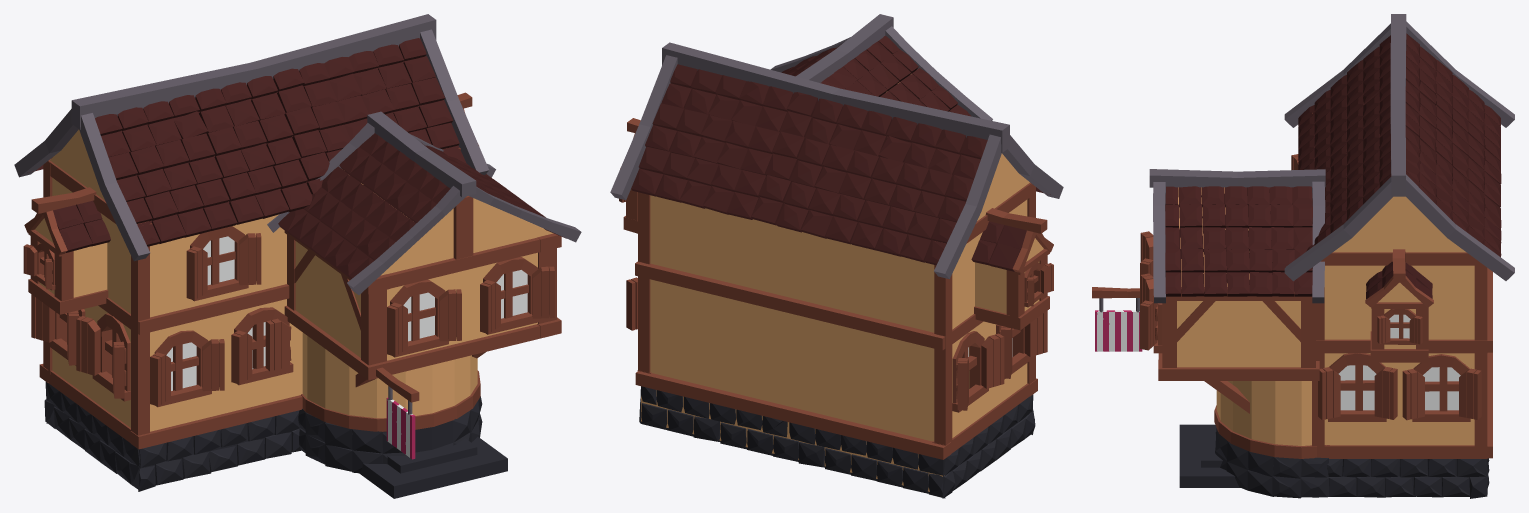
Rendered from Store.fbx.
The picture shows the model from 3 angles, left to right: view 1: azimuth 30°, elevation 25°; view 2: azimuth 150°, elevation 25°; view 3: azimuth 270°, elevation 25°; orthographic projection. The views are drawn at different scales.
Visible parts, largest first — view 1: Дом магазин; view 2: Дом магазин; view 3: Дом магазин.
Boxes of the visible parts, x1,y1,x2,y2 form: Дом магазин: (14, 14, 581, 498); Дом магазин: (610, 14, 1063, 498); Дом магазин: (1092, 14, 1514, 498).
Size of the model in its own units: 542 by 429 by 493.
